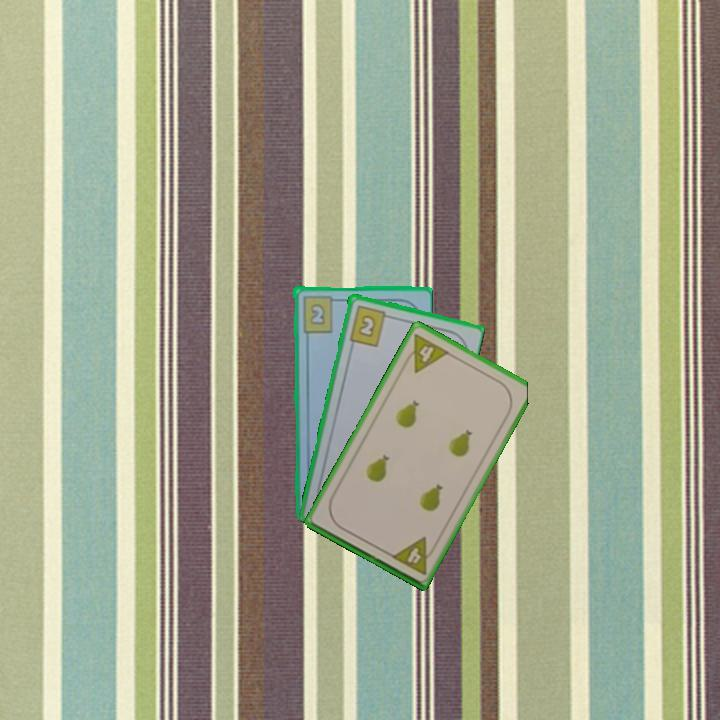2b: (346, 301, 394, 349), (299, 292, 341, 334)
4p: (399, 330, 452, 376), (388, 533, 440, 577)
